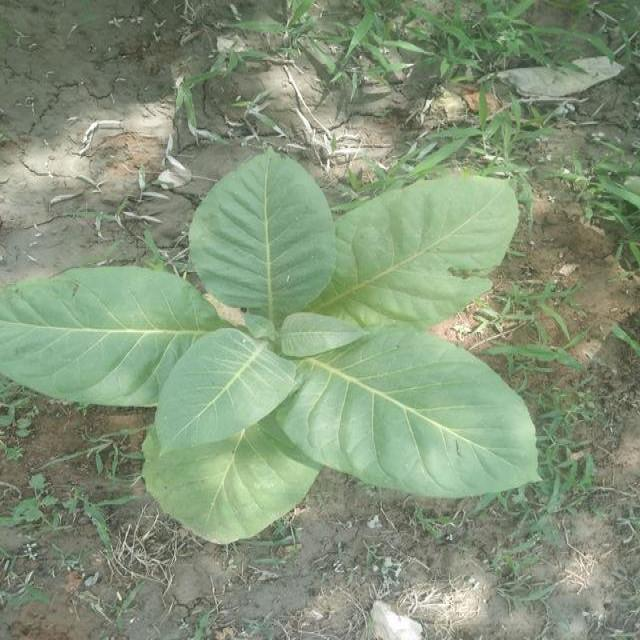crop: (2, 146, 545, 549)
